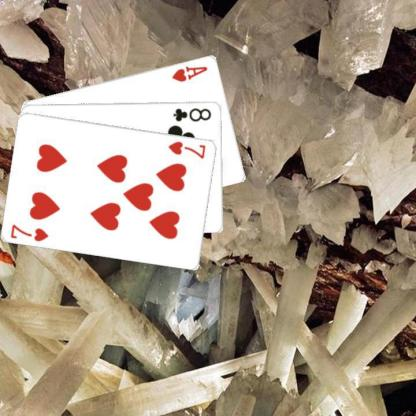7H: (8, 221, 50, 243), (166, 138, 207, 160)
8C: (171, 104, 213, 122)
AH: (169, 63, 209, 83)
